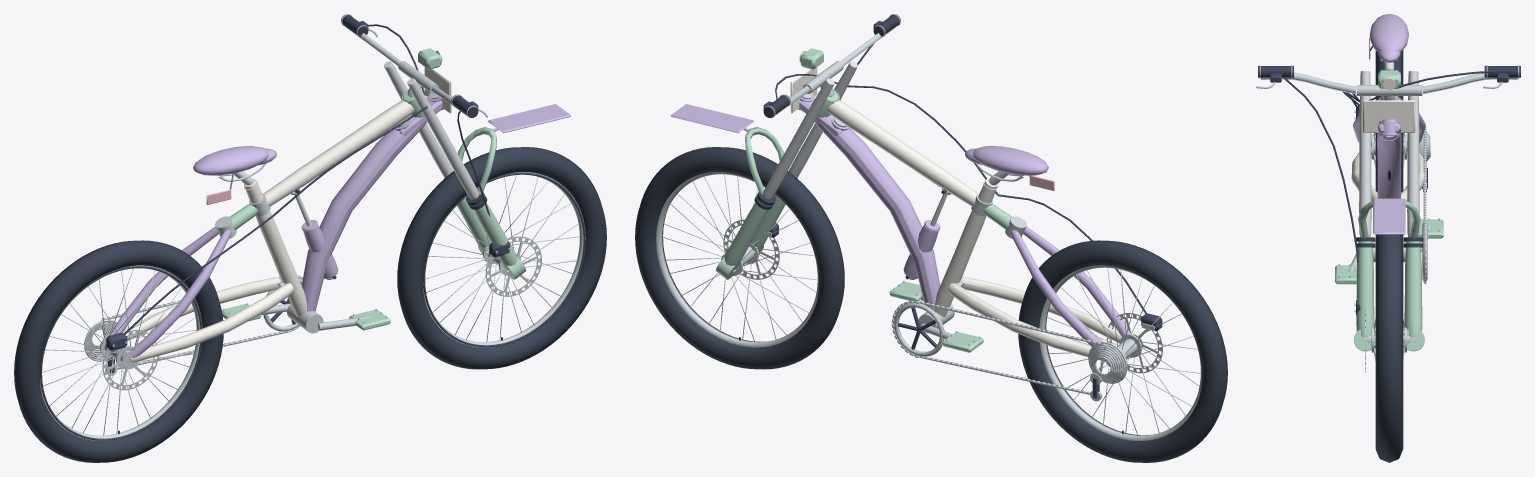
The model's file is bike.glb.
3 views of the same model, side by side, from view 1: azimuth 30°, elevation 25°; view 2: azimuth 150°, elevation 25°; view 3: azimuth 270°, elevation 25° (orthographic). The views are drawn at different scales.
Parts seen in each view (by area): view 1: MESH_WHEEL_FRONT_PIVOT_RUBBER, MESH_WHEEL_REAR_PIVOT_RUBBER, MESH_FRAME_DOWN_STRUCTURE_LILAC, MESH_WHEEL_REAR_PIVOT_Bike_satin_metal, MESH_WHEEL_FRONT_PIVOT_Bike_satin_metal, MESH_FRAME_TOP_STRUCTURE_CREAM, MESH_REAR_STAY_L_STRUCTURE_CREAM, MESH_FRAME_SEAT_STRUCTURE_CREAM, MESH_SADDLE_STRUCTURE_LILAC, MESH_SEAT_STAY_L_STRUCTURE_LILAC, MESH_STANCHION_L_Bike_chrome, MESH_REAR_STAY_R_STRUCTURE_CREAM (+14 smaller); view 2: MESH_WHEEL_FRONT_PIVOT_RUBBER, MESH_WHEEL_REAR_PIVOT_RUBBER, MESH_WHEEL_FRONT_PIVOT_Bike_satin_metal, MESH_WHEEL_REAR_PIVOT_Bike_satin_metal, MESH_FRAME_DOWN_STRUCTURE_LILAC, MESH_FRAME_TOP_STRUCTURE_CREAM, MESH_FRAME_SEAT_STRUCTURE_CREAM, MESH_REAR_STAY_R_STRUCTURE_CREAM, MESH_SADDLE_STRUCTURE_LILAC, MESH_STANCHION_R_Bike_chrome, MESH_REAR_STAY_L_STRUCTURE_CREAM, MESH_SEAT_STAY_R_STRUCTURE_LILAC (+13 smaller); view 3: MESH_WHEEL_FRONT_PIVOT_RUBBER, MESH_BAR_MID_Bike_satin_metal, MESH_FORK_LOWER_R_STRUCTURE_MINT, MESH_FORK_LOWER_L_STRUCTURE_MINT, MESH_FRAME_DOWN_STRUCTURE_LILAC, MESH_NUMBER_PLATE_STRUCTURE_CREAM, MESH_SADDLE_STRUCTURE_LILAC, MESH_STANCHION_R_Bike_chrome, MESH_STANCHION_L_Bike_chrome, MESH_MUDGUARD_STRUCTURE_LILAC, MESH_WHEEL_REAR_PIVOT_RUBBER, MESH_FORK_ARCH_STRUCTURE_MINT (+12 smaller).
Part boxes in pixels (bbox=[...]): MESH_WHEEL_FRONT_PIVOT_RUBBER: bbox=[397, 147, 606, 369]; MESH_WHEEL_REAR_PIVOT_RUBBER: bbox=[14, 240, 223, 462]; MESH_FRAME_DOWN_STRUCTURE_LILAC: bbox=[301, 115, 426, 311]; MESH_WHEEL_REAR_PIVOT_Bike_satin_metal: bbox=[40, 265, 202, 440]; MESH_WHEEL_FRONT_PIVOT_Bike_satin_metal: bbox=[423, 172, 585, 347]; MESH_FRAME_TOP_STRUCTURE_CREAM: bbox=[263, 100, 414, 206]; MESH_REAR_STAY_L_STRUCTURE_CREAM: bbox=[131, 283, 293, 362]; MESH_FRAME_SEAT_STRUCTURE_CREAM: bbox=[244, 178, 306, 316]; MESH_SADDLE_STRUCTURE_LILAC: bbox=[193, 146, 276, 175]; MESH_SEAT_STAY_L_STRUCTURE_LILAC: bbox=[130, 230, 231, 358]; MESH_STANCHION_L_Bike_chrome: bbox=[407, 78, 478, 199]; MESH_REAR_STAY_R_STRUCTURE_CREAM: bbox=[123, 277, 281, 340]; MESH_WHEEL_FRONT_PIVOT_RUBBER: bbox=[635, 147, 844, 369]; MESH_WHEEL_REAR_PIVOT_RUBBER: bbox=[1018, 240, 1227, 462]; MESH_WHEEL_FRONT_PIVOT_Bike_satin_metal: bbox=[656, 172, 818, 347]; MESH_WHEEL_REAR_PIVOT_Bike_satin_metal: bbox=[1039, 265, 1201, 440]; MESH_FRAME_DOWN_STRUCTURE_LILAC: bbox=[815, 115, 940, 311]; MESH_FRAME_TOP_STRUCTURE_CREAM: bbox=[827, 100, 978, 206]; MESH_FRAME_SEAT_STRUCTURE_CREAM: bbox=[935, 178, 997, 316]; MESH_REAR_STAY_R_STRUCTURE_CREAM: bbox=[948, 283, 1112, 362]; MESH_SADDLE_STRUCTURE_LILAC: bbox=[965, 146, 1048, 175]; MESH_STANCHION_R_Bike_chrome: bbox=[763, 78, 834, 199]; MESH_REAR_STAY_L_STRUCTURE_CREAM: bbox=[960, 277, 1121, 343]; MESH_SEAT_STAY_R_STRUCTURE_LILAC: bbox=[1010, 230, 1113, 357]; MESH_WHEEL_FRONT_PIVOT_RUBBER: bbox=[1375, 234, 1403, 462]; MESH_BAR_MID_Bike_satin_metal: bbox=[1261, 72, 1517, 95]; MESH_FORK_LOWER_R_STRUCTURE_MINT: bbox=[1403, 241, 1424, 351]; MESH_FORK_LOWER_L_STRUCTURE_MINT: bbox=[1354, 241, 1375, 351]; MESH_FRAME_DOWN_STRUCTURE_LILAC: bbox=[1377, 133, 1401, 198]; MESH_NUMBER_PLATE_STRUCTURE_CREAM: bbox=[1363, 100, 1415, 132]; MESH_SADDLE_STRUCTURE_LILAC: bbox=[1369, 14, 1408, 62]; MESH_STANCHION_R_Bike_chrome: bbox=[1407, 71, 1419, 237]; MESH_STANCHION_L_Bike_chrome: bbox=[1359, 71, 1371, 237]; MESH_MUDGUARD_STRUCTURE_LILAC: bbox=[1373, 198, 1405, 234]; MESH_WHEEL_REAR_PIVOT_RUBBER: bbox=[1375, 50, 1403, 192]; MESH_FORK_ARCH_STRUCTURE_MINT: bbox=[1358, 198, 1420, 241].
Size of the model in its own units: 2.14 by 1.15 by 0.8054.
